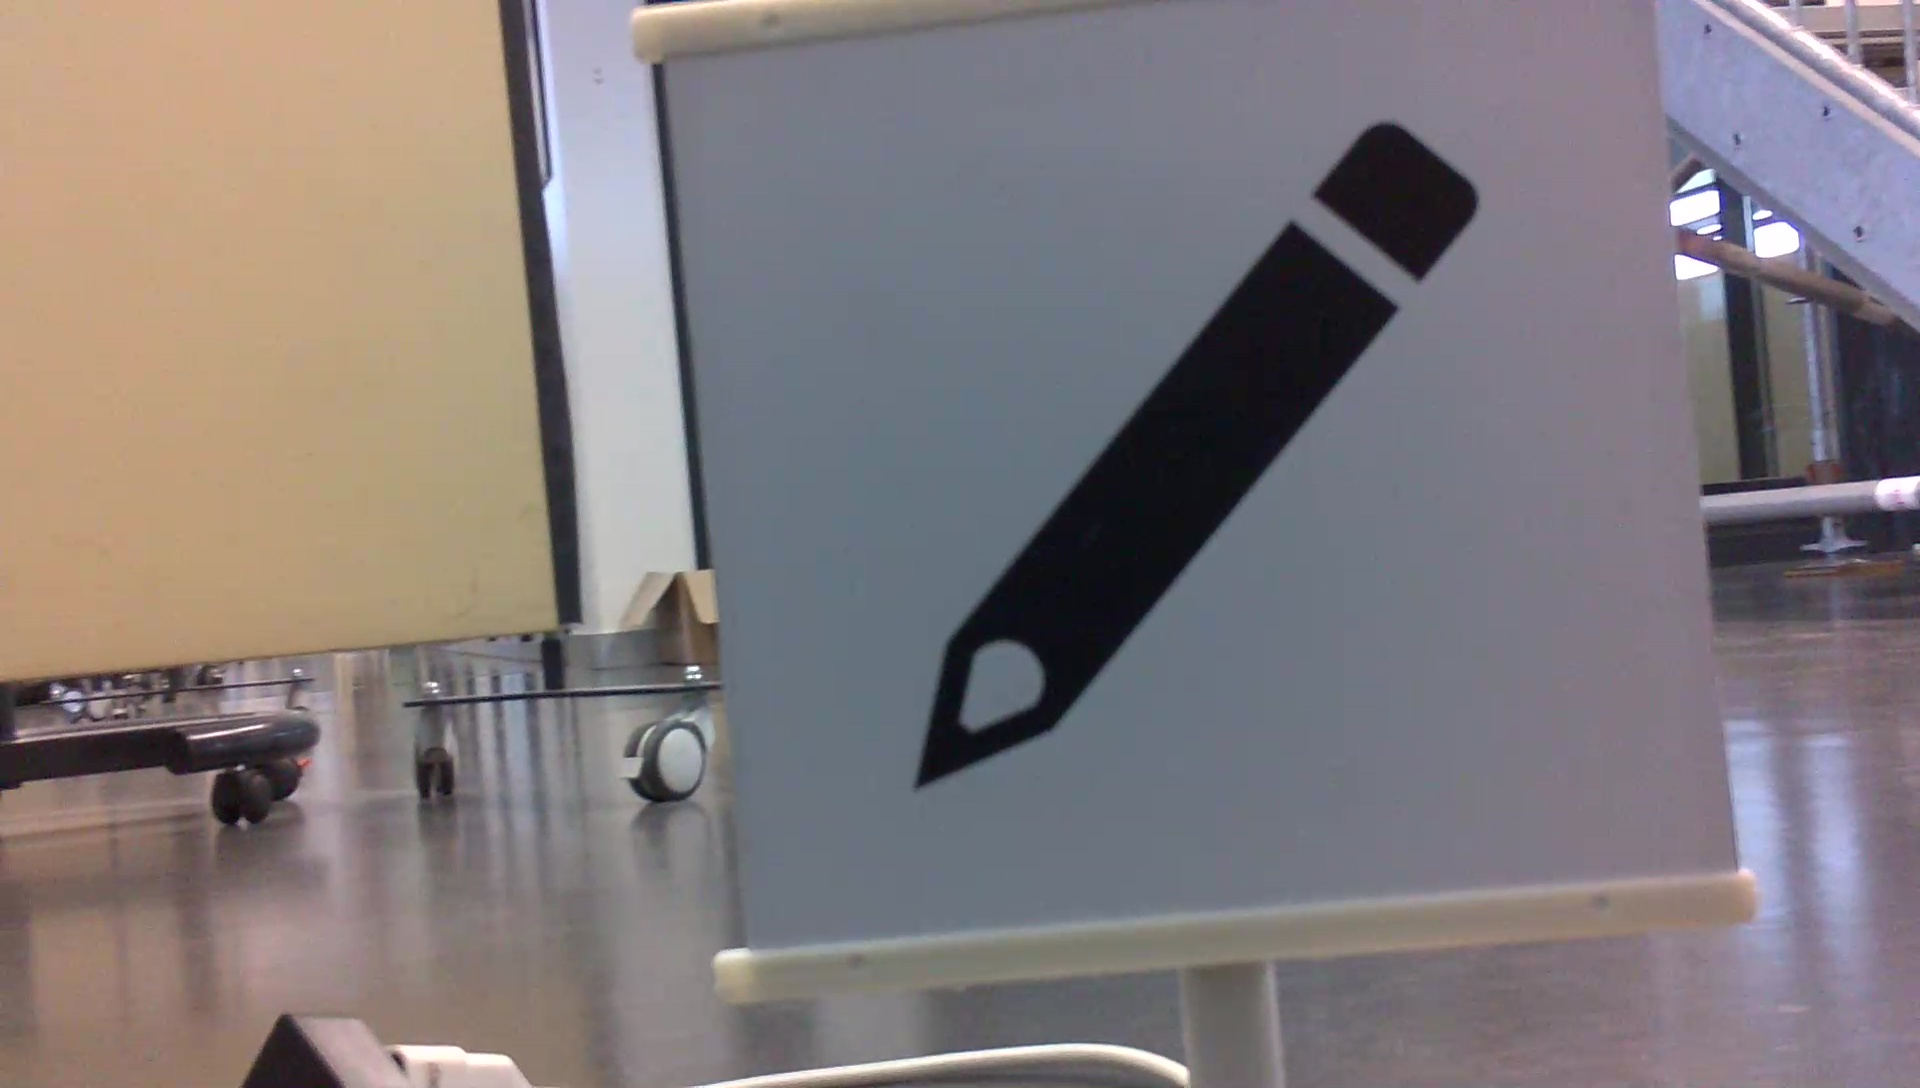pencil: (889, 106, 1485, 810)
